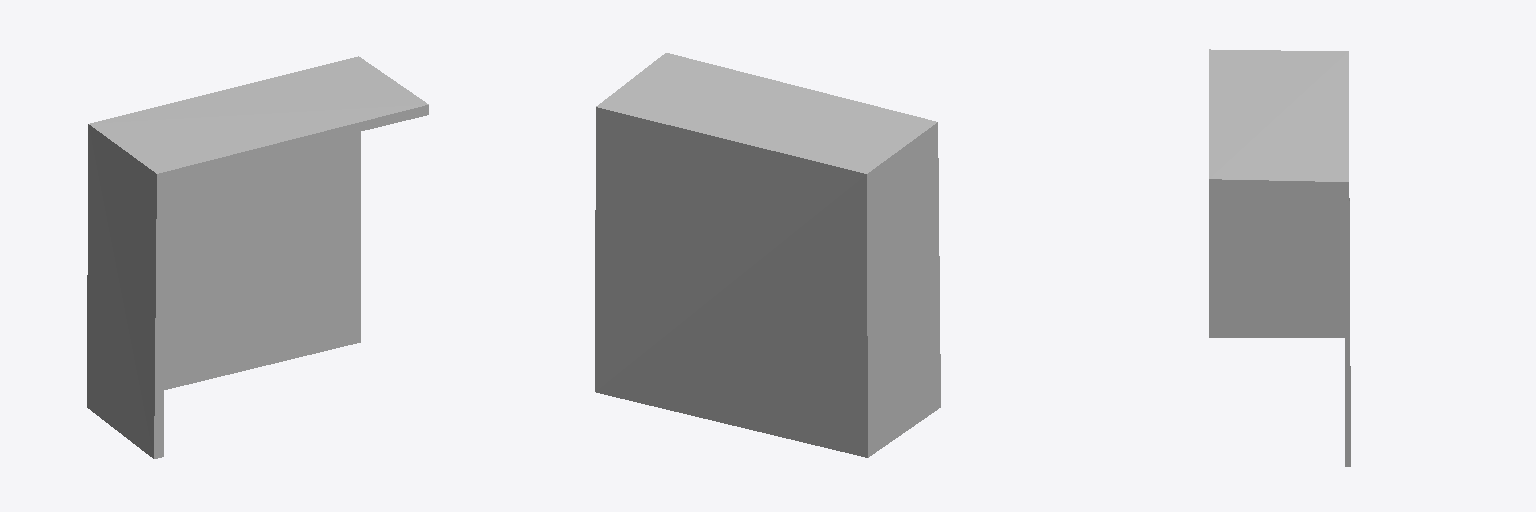
Rendered from Visible_walls.obj.
The picture shows the model from 3 angles: view 1: azimuth 30°, elevation 25°; view 2: azimuth 150°, elevation 25°; view 3: azimuth 270°, elevation 25°; orthographic projection.
Visible parts, largest first — view 1: Visible_walls_Plane.003; view 2: Visible_walls_Plane.003; view 3: Visible_walls_Plane.003.
Part boxes in pixels (x1,y1,x2,y2): Visible_walls_Plane.003: (87, 56, 428, 458); Visible_walls_Plane.003: (595, 53, 940, 457); Visible_walls_Plane.003: (1209, 49, 1350, 466).
Bounding box in the file's own units: 13.38 × 13.38 × 5.99.